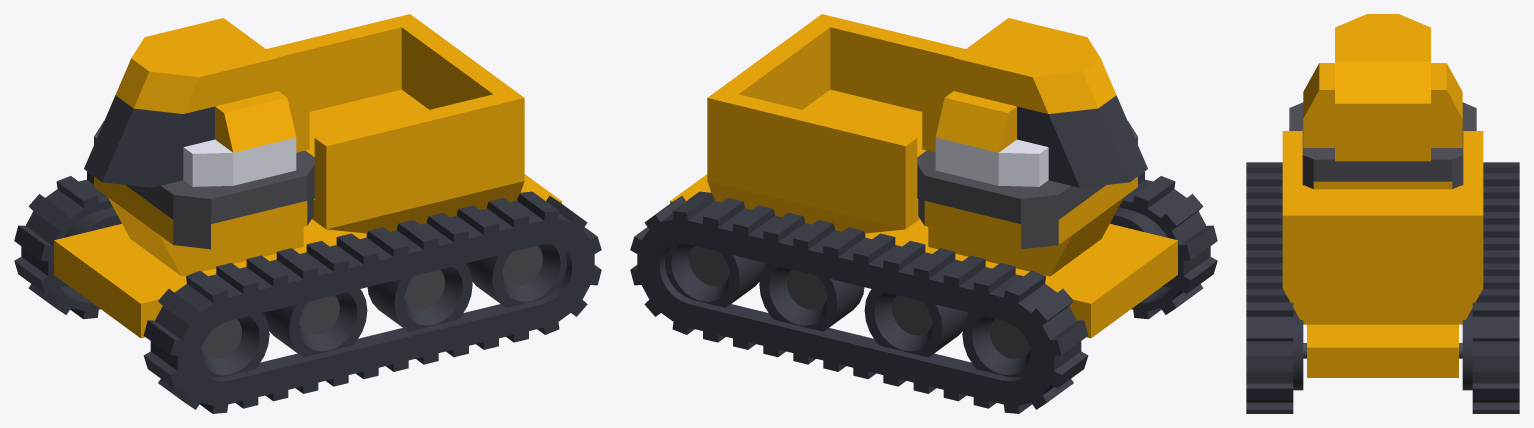
The model's file is Bot.fbx.
The picture shows the model from 3 angles, left to right: view 1: azimuth 30°, elevation 25°; view 2: azimuth 150°, elevation 25°; view 3: azimuth 270°, elevation 25°; orthographic projection. The views are drawn at different scales.
Visible parts, largest first — view 1: mergedBlocks; view 2: mergedBlocks; view 3: mergedBlocks.
Boxes of the visible parts, x1=… form: mergedBlocks: x1=14, y1=14, x2=601, y2=413; mergedBlocks: x1=630, y1=14, x2=1217, y2=413; mergedBlocks: x1=1246, y1=14, x2=1519, y2=413.
Size of the model in its own units: 28.69 by 18.6 by 18.
